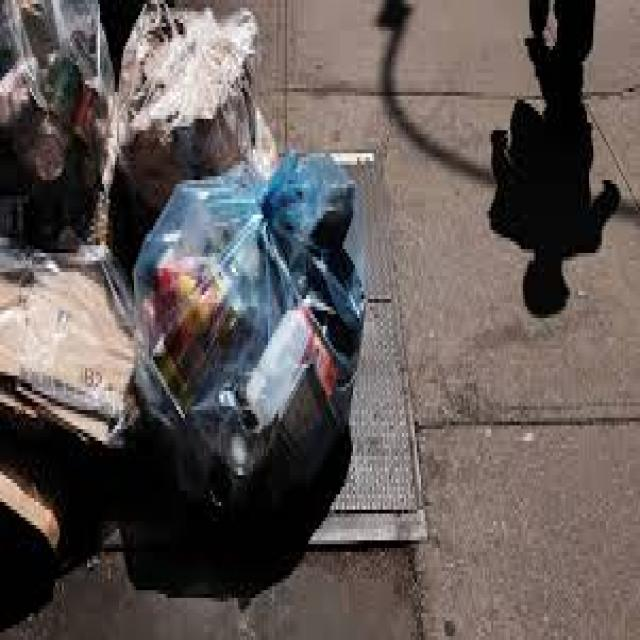plastic_bag: (150, 154, 362, 480)
